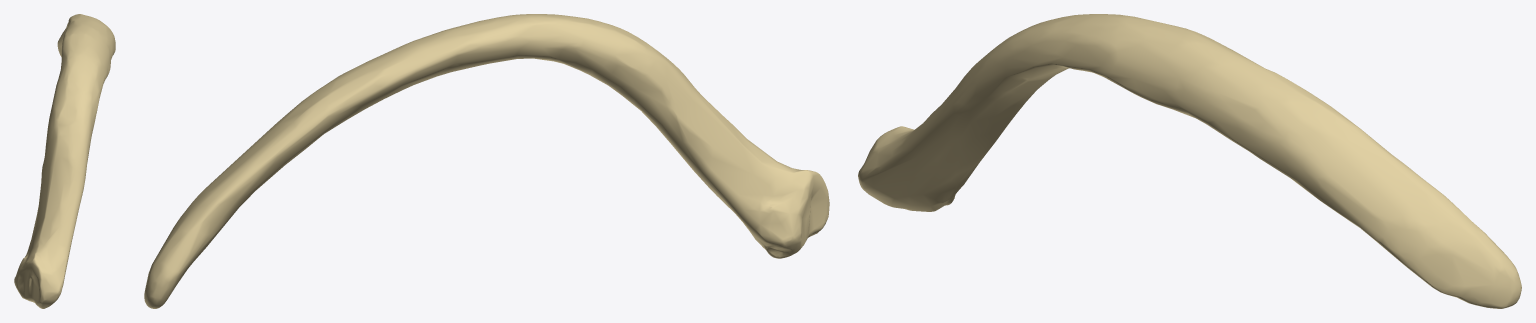
The picture shows the model from 3 angles, left to right: view 1: azimuth 30°, elevation 25°; view 2: azimuth 150°, elevation 25°; view 3: azimuth 270°, elevation 25°; orthographic projection. The views are drawn at different scales.
Visible parts, largest first — view 1: 左侧第十二肋; view 2: 左侧第十二肋; view 3: 左侧第十二肋.
Part boxes in pixels (x1,y1,x2,y2): 左侧第十二肋: [14, 14, 115, 308]; 左侧第十二肋: [144, 14, 829, 308]; 左侧第十二肋: [858, 14, 1521, 308].
Bounding box in the file's own units: 0.0973 × 0.0654 × 0.1442.
